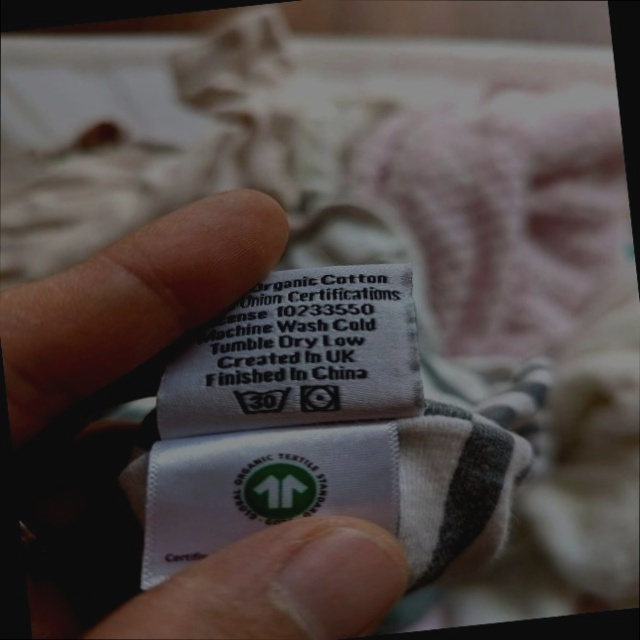30C: (228, 380, 296, 421)
tumble_dry_low: (297, 379, 344, 419)
